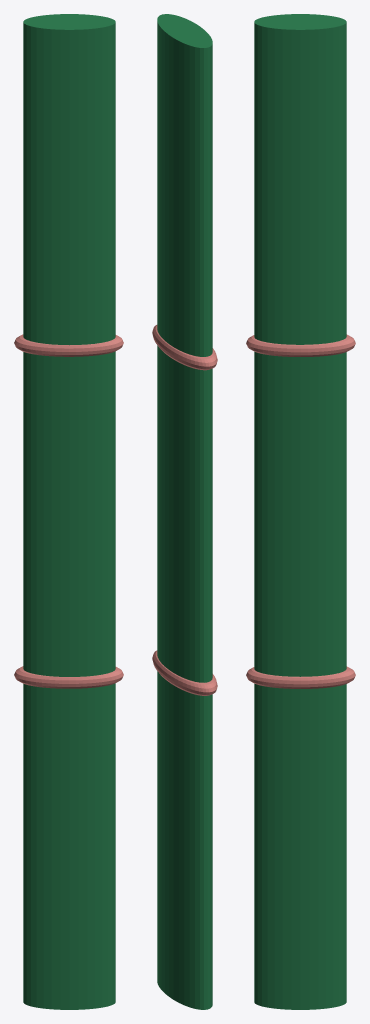
Rendered from zako.fbx.
3 renders of one model, left to right at view 1: azimuth 90°, elevation 25°; view 2: azimuth 210°, elevation 25°; view 3: azimuth 270°, elevation 25°, orthographic.
Visible parts, largest first — view 1: Cylinder.005, Cylinder.004, Cylinder.003, Torus.002, Torus.003; view 2: Cylinder.005, Cylinder.004, Cylinder.003, Torus.002, Torus.003; view 3: Cylinder.005, Cylinder.004, Cylinder.003, Torus.002, Torus.003.
Part boxes in pixels (<box>): Cylinder.005: <box>23,14,115,359</box>; Cylinder.004: <box>23,683,115,1009</box>; Cylinder.003: <box>23,351,115,676</box>; Torus.002: <box>14,666,123,688</box>; Torus.003: <box>14,334,123,356</box>; Cylinder.005: <box>157,14,212,370</box>; Cylinder.004: <box>157,671,212,1009</box>; Cylinder.003: <box>157,345,212,682</box>; Torus.002: <box>152,650,217,695</box>; Torus.003: <box>152,325,217,370</box>; Cylinder.005: <box>254,14,346,359</box>; Cylinder.004: <box>254,683,346,1009</box>; Cylinder.003: <box>254,351,346,676</box>; Torus.002: <box>246,666,355,688</box>; Torus.003: <box>246,334,355,356</box>.
Size of the model in its own units: 49.27 by 1231 by 125.
